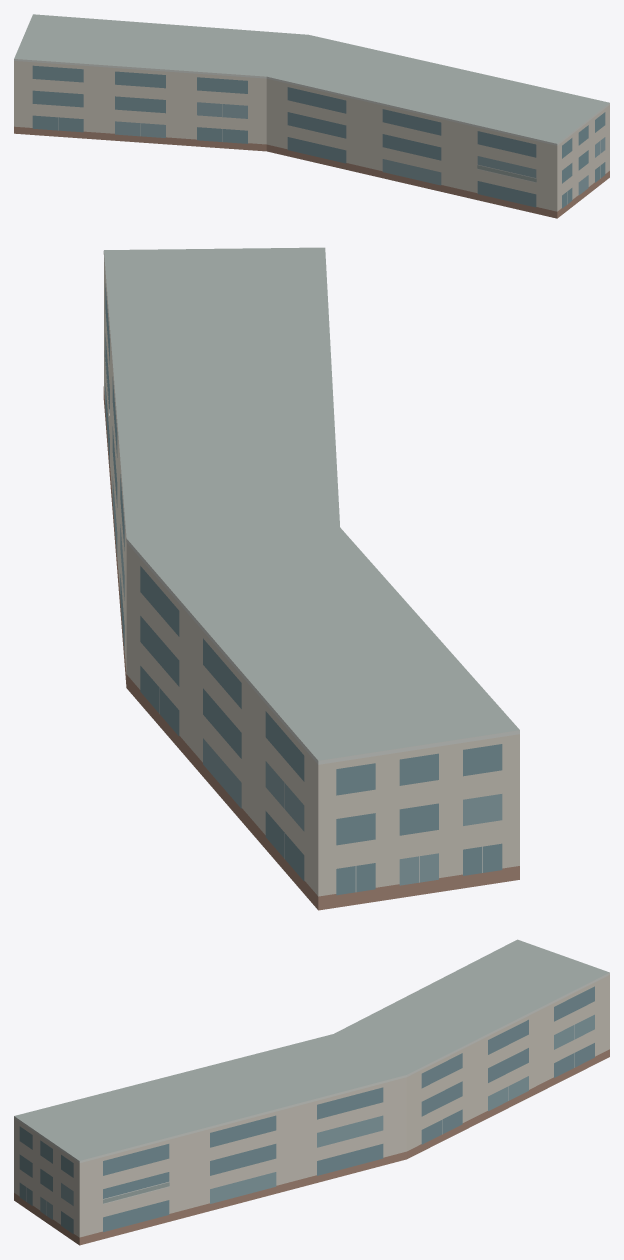
File: survey-upis-32779208.glb
3 renders of one model, top to bottom at view 1: azimuth 30°, elevation 25°; view 2: azimuth 150°, elevation 25°; view 3: azimuth 270°, elevation 25°, orthographic. The views are drawn at different scales.
Parts seen in each view (by area): view 1: survey-upis-32779208.tmp; view 2: survey-upis-32779208.tmp; view 3: survey-upis-32779208.tmp.
Boxes of the visible parts, x1,y1,x2,y2 form: survey-upis-32779208.tmp: [14, 14, 609, 218]; survey-upis-32779208.tmp: [103, 247, 519, 910]; survey-upis-32779208.tmp: [14, 939, 609, 1245].
Size of the model in its own units: 51.48 by 9.15 by 58.52.
